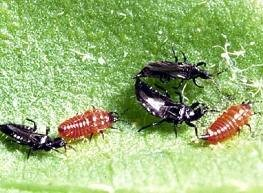Phlaeothripidae: (129, 76, 215, 140), (134, 48, 225, 80), (1, 116, 71, 157)
